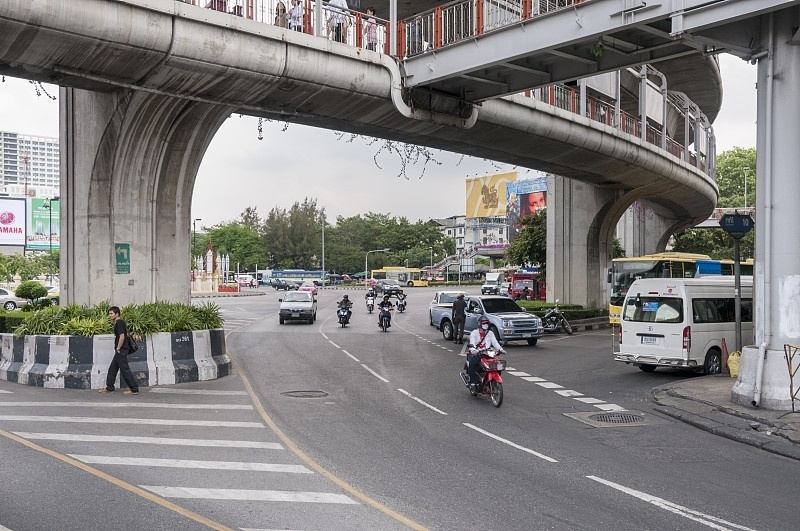non-vehicle: (461, 344, 504, 406), (538, 303, 572, 336), (378, 303, 391, 330), (336, 304, 350, 324), (396, 293, 405, 309)
